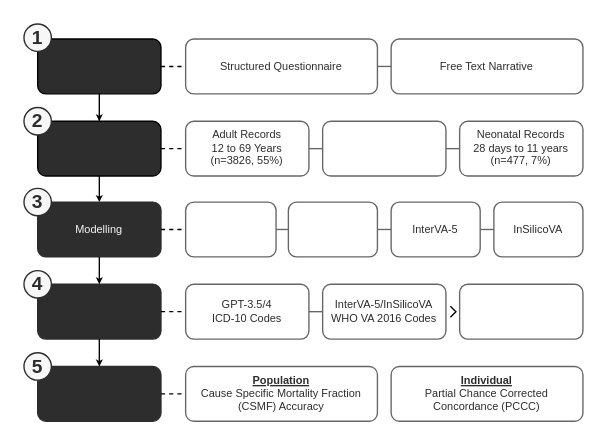
The diagram is 607 pixels wide and 445 high, and some of its shapes have lost their labels. Here are the shapes that lost their labels. From the top down, the box of each, then its label:
(36, 38, 161, 94): Verbal Autopsy Data (n=11920, 100%)
(36, 120, 161, 176): Physician Agreed Records (n=6939, 58%)
(321, 120, 446, 176): Child Records 28 days to 11 years (n=2636, 38%)
(184, 201, 276, 257): GPT-3.5
(287, 201, 377, 257): GPT-4
(36, 283, 161, 339): Code Conversion
(458, 283, 583, 339): CGHR-10 Codes
(36, 365, 161, 421): Performance Evaluation
